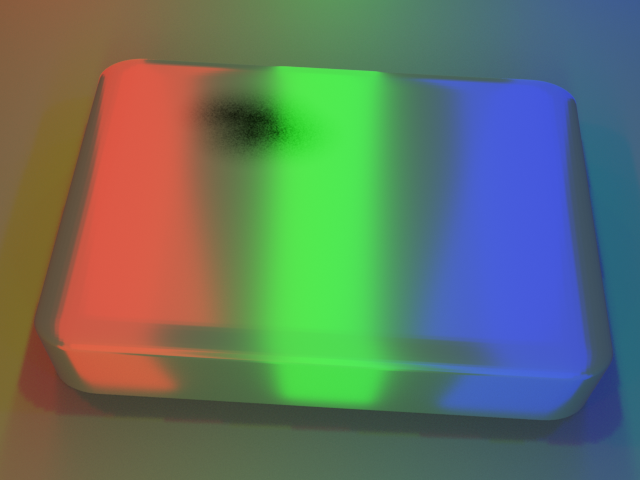stain: (137, 53, 370, 176)
